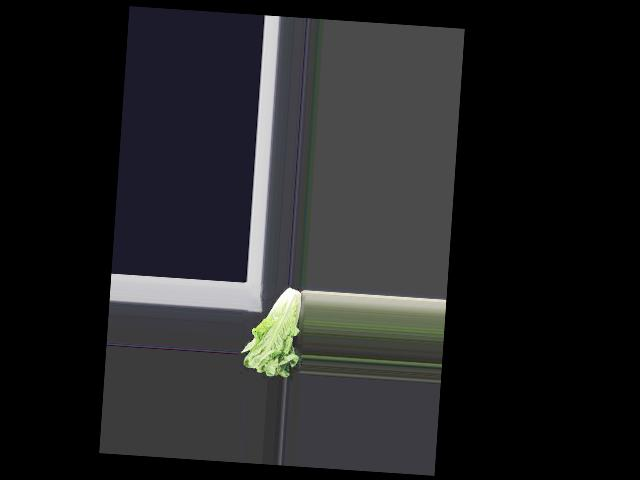lettuce: (240, 283, 303, 379)
